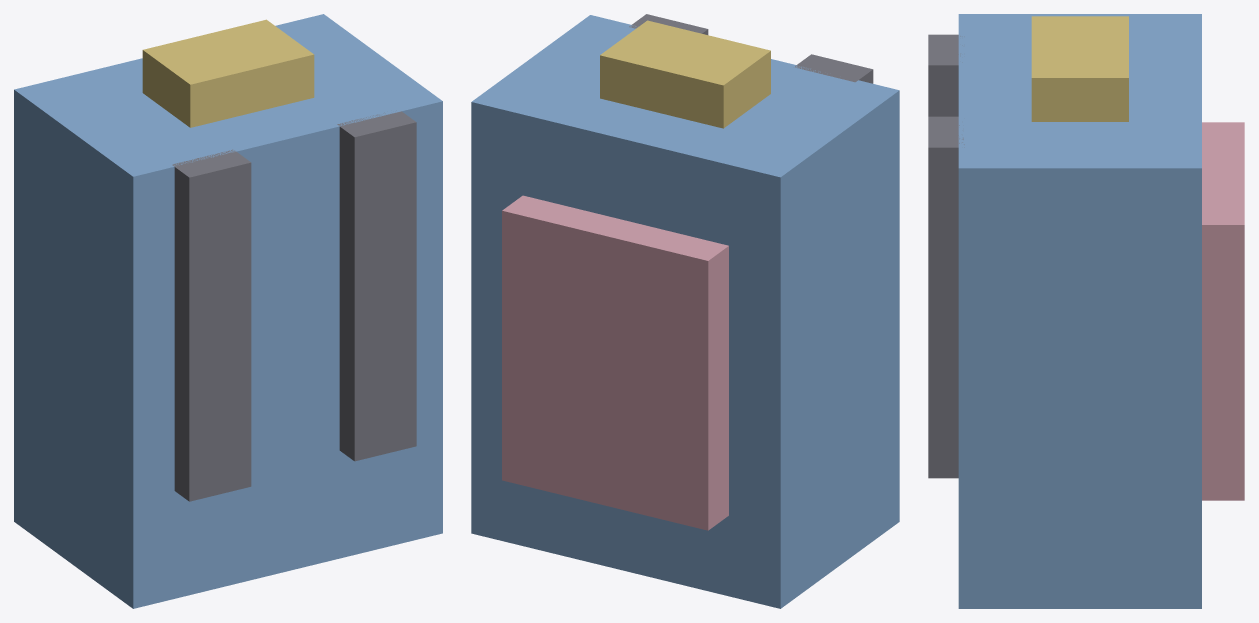
The model's file is kid_mochila.glb.
The picture shows the model from 3 angles, left to right: view 1: azimuth 30°, elevation 25°; view 2: azimuth 150°, elevation 25°; view 3: azimuth 270°, elevation 25°; orthographic projection. The views are drawn at different scales.
Parts seen in each view (by area): view 1: KID_MOCHILA_v01; view 2: KID_MOCHILA_v01; view 3: KID_MOCHILA_v01.
Part boxes in pixels (bbox=[...]): KID_MOCHILA_v01: bbox=[14, 14, 442, 608]; KID_MOCHILA_v01: bbox=[471, 14, 899, 608]; KID_MOCHILA_v01: bbox=[928, 14, 1244, 608].
Size of the model in its own units: 0.3 by 0.44 by 0.26.
